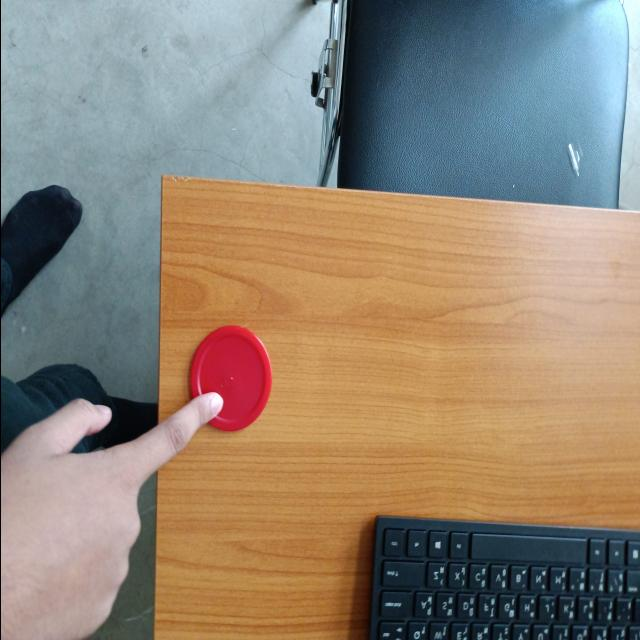chip: (189, 324, 271, 432)
